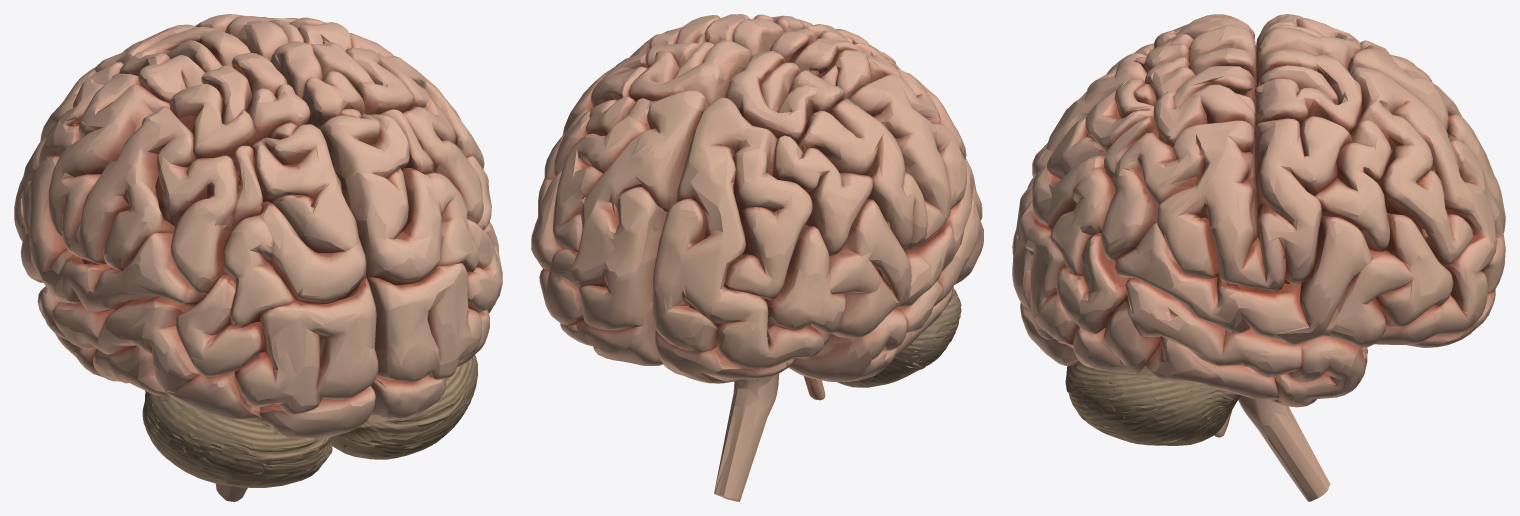
Rendered from brain.glb.
3 renders of one model, left to right at view 1: azimuth 30°, elevation 25°; view 2: azimuth 150°, elevation 25°; view 3: azimuth 270°, elevation 25°, orthographic. The views are drawn at different scales.
Size of the model in its own units: 1.63 by 1.9 by 1.85.
Materials: 1 (1 with a texture image).
